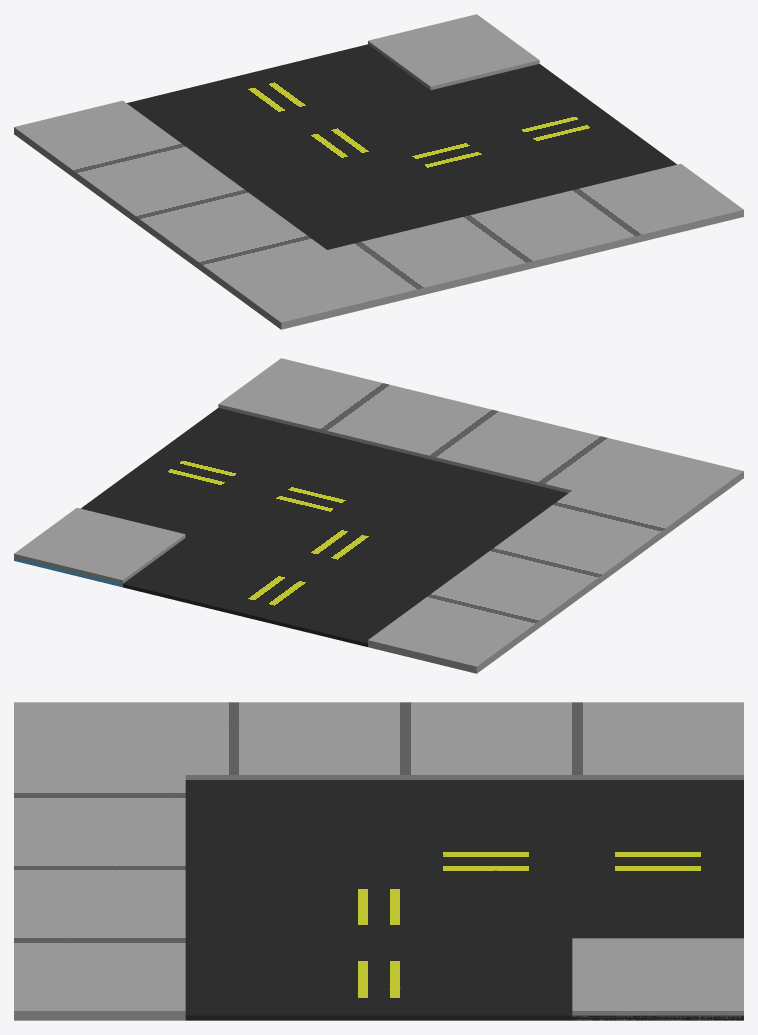
Rendered from road_turn.gltf.
3 views of the same model, one above another, from view 1: azimuth 30°, elevation 25°; view 2: azimuth 150°, elevation 25°; view 3: azimuth 270°, elevation 25° (orthographic). The views are drawn at different scales.
Visible parts, largest first — view 1: cuboid; view 2: cuboid; view 3: cuboid.
Part boxes in pixels (box(x1,y1,x2,y2)): cuboid: box(14, 14, 743, 329); cuboid: box(14, 358, 743, 673); cuboid: box(14, 702, 743, 1020).
Size of the model in its own units: 4.25 by 0.0625 by 4.25.
1 material, 1 textured.
